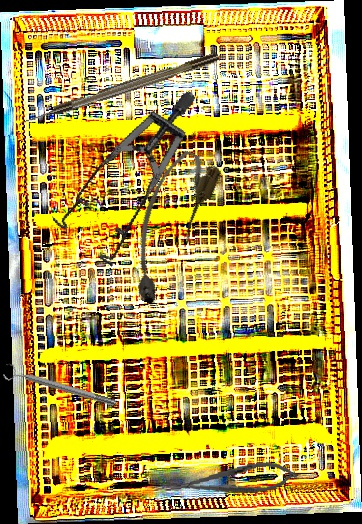Cannula: (110, 144, 225, 310)
Fixation Ring: (1, 361, 119, 413)
Hook Surgical: (18, 51, 221, 128)
Needle Holder: (167, 457, 299, 503)
Speculum: (27, 89, 242, 281)
